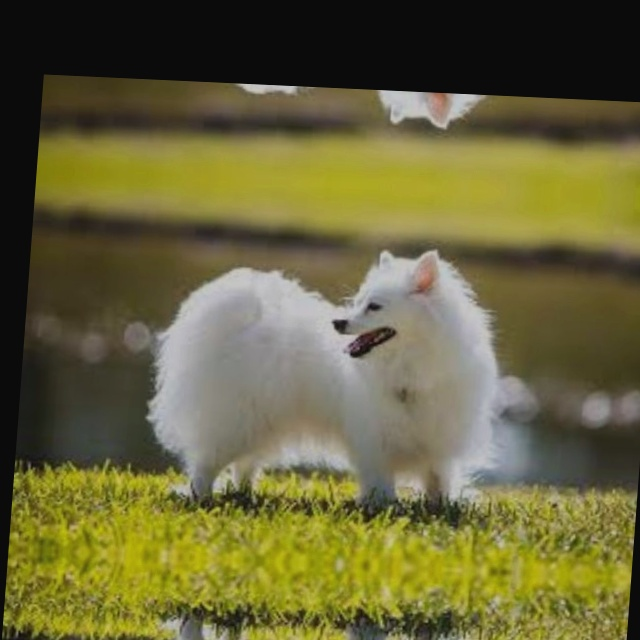dog: (131, 233, 540, 520), (160, 80, 552, 136), (120, 606, 513, 640)
